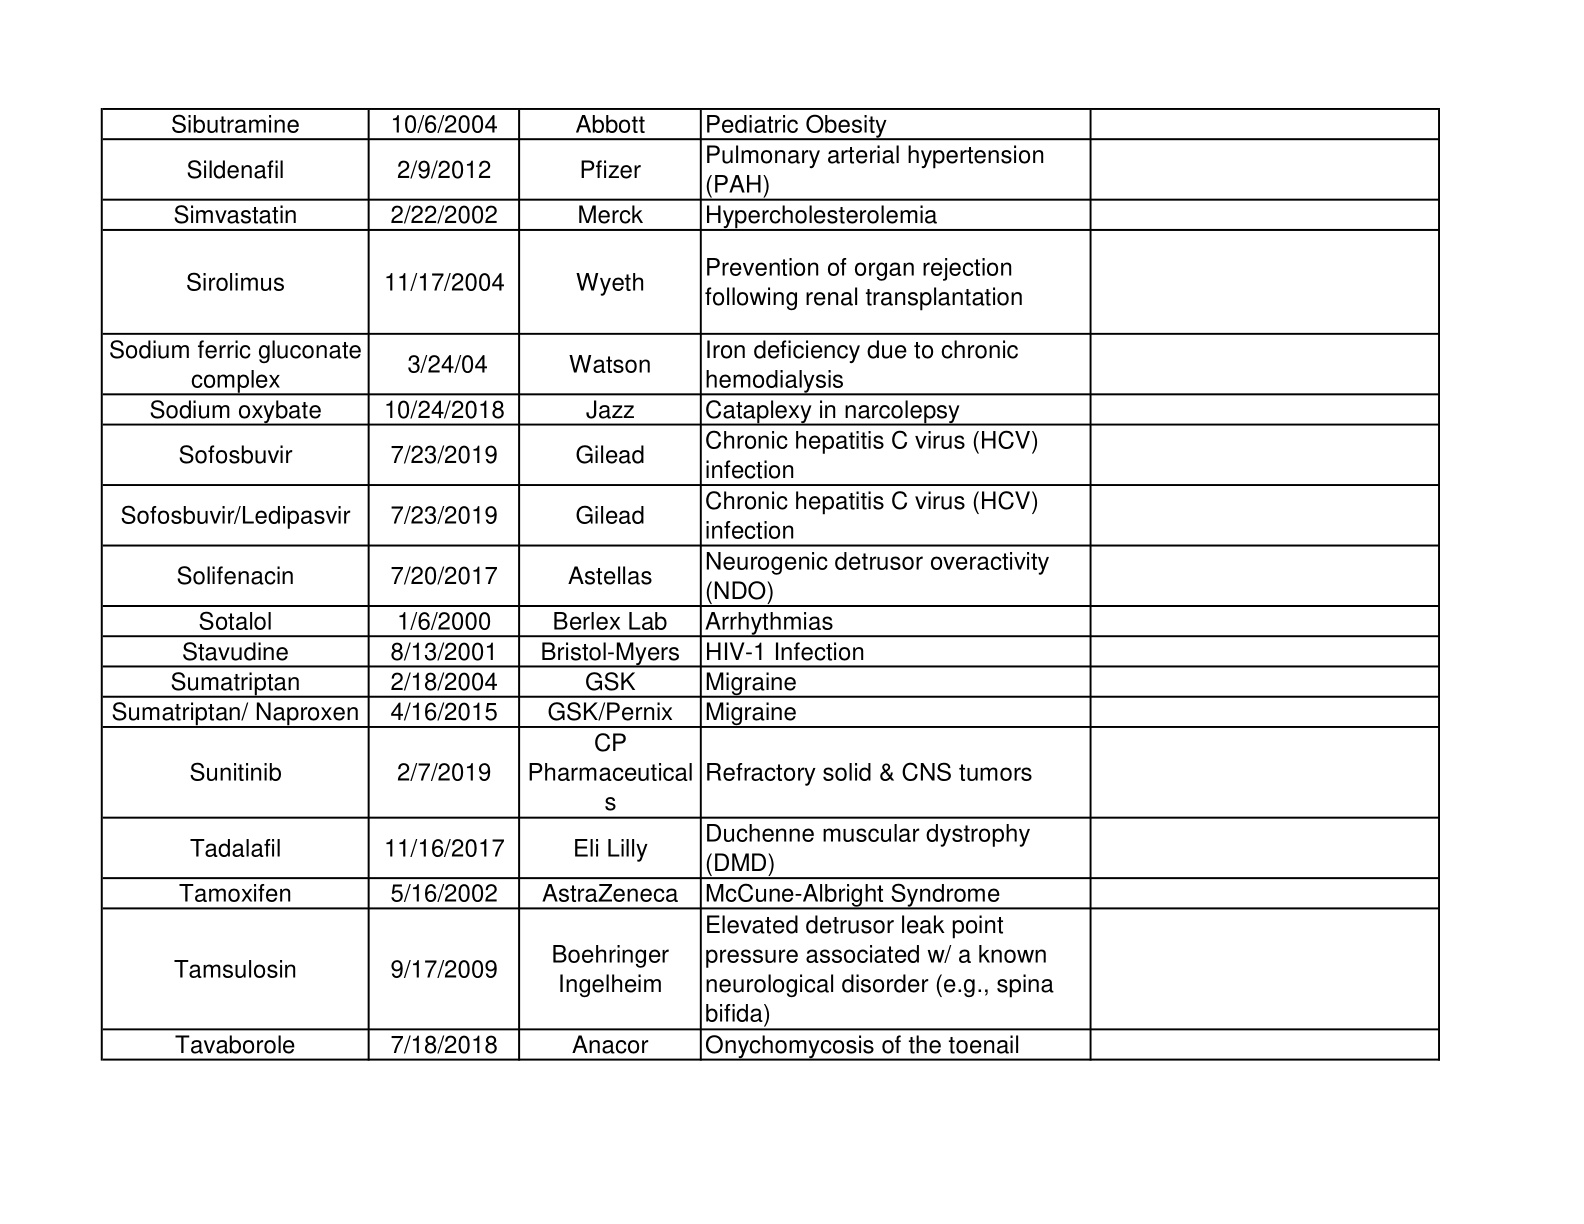full_lined: (99, 108, 1441, 1063)
